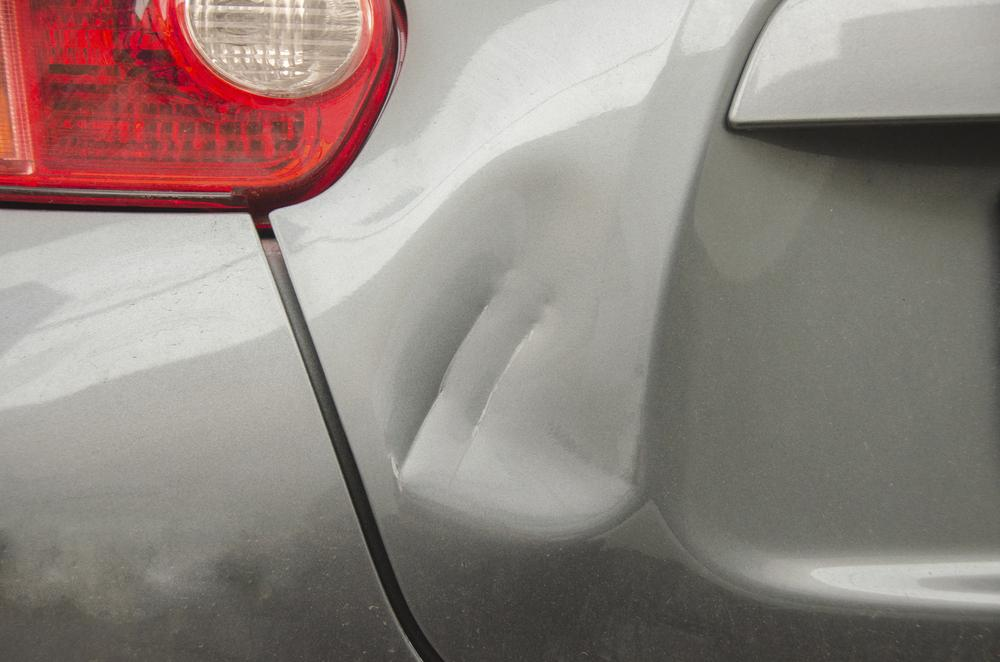dent: (386, 160, 646, 538)
